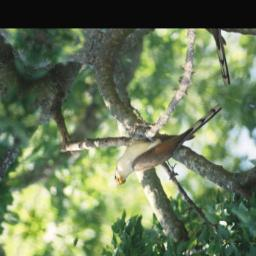Cuckoo: (108, 75, 226, 214)
